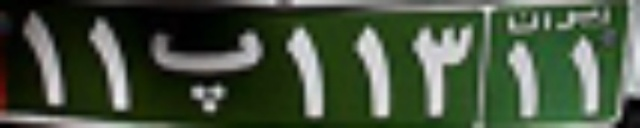1: (279, 22, 325, 118), (20, 11, 66, 106), (87, 18, 131, 111), (353, 20, 391, 117), (565, 33, 601, 116), (506, 36, 541, 118)
3: (411, 23, 476, 118)
pe: (146, 27, 267, 113)
